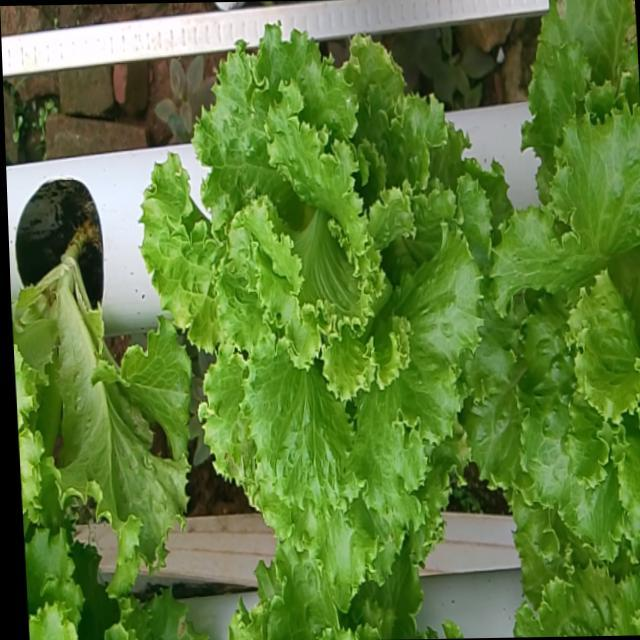Mature: (142, 8, 493, 576), (468, 83, 640, 550)
